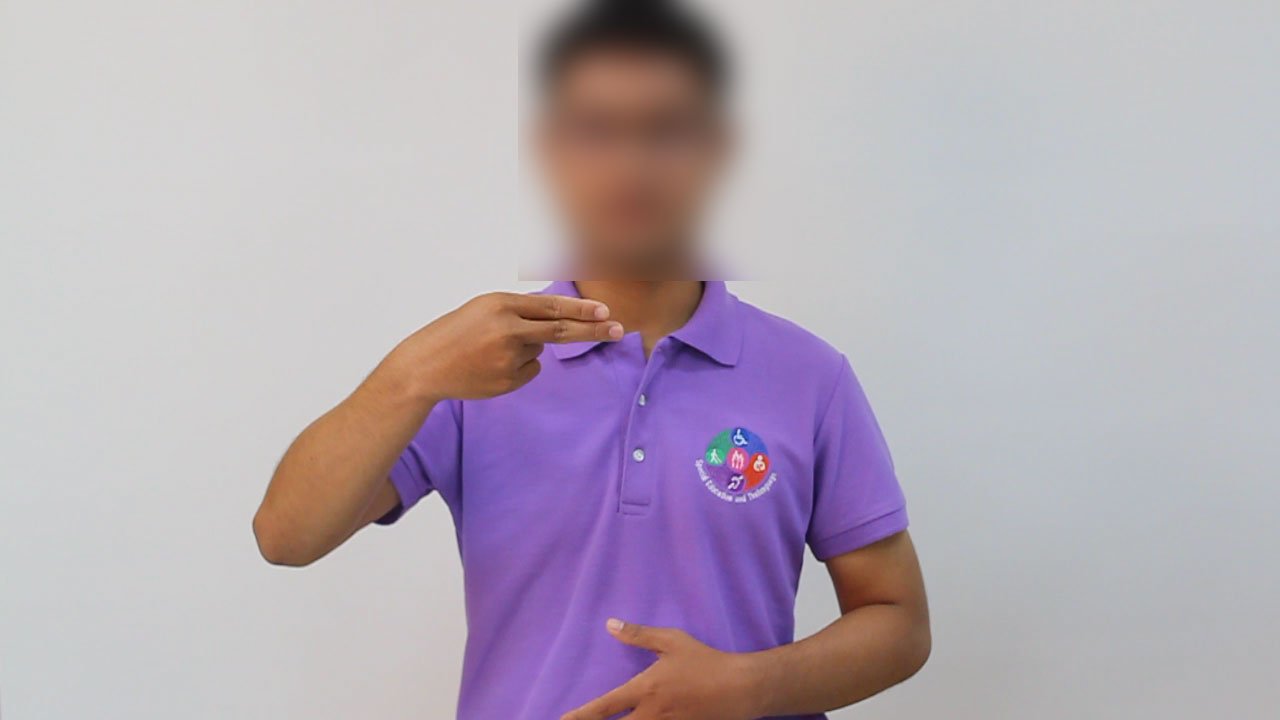hor: (378, 283, 638, 409)
